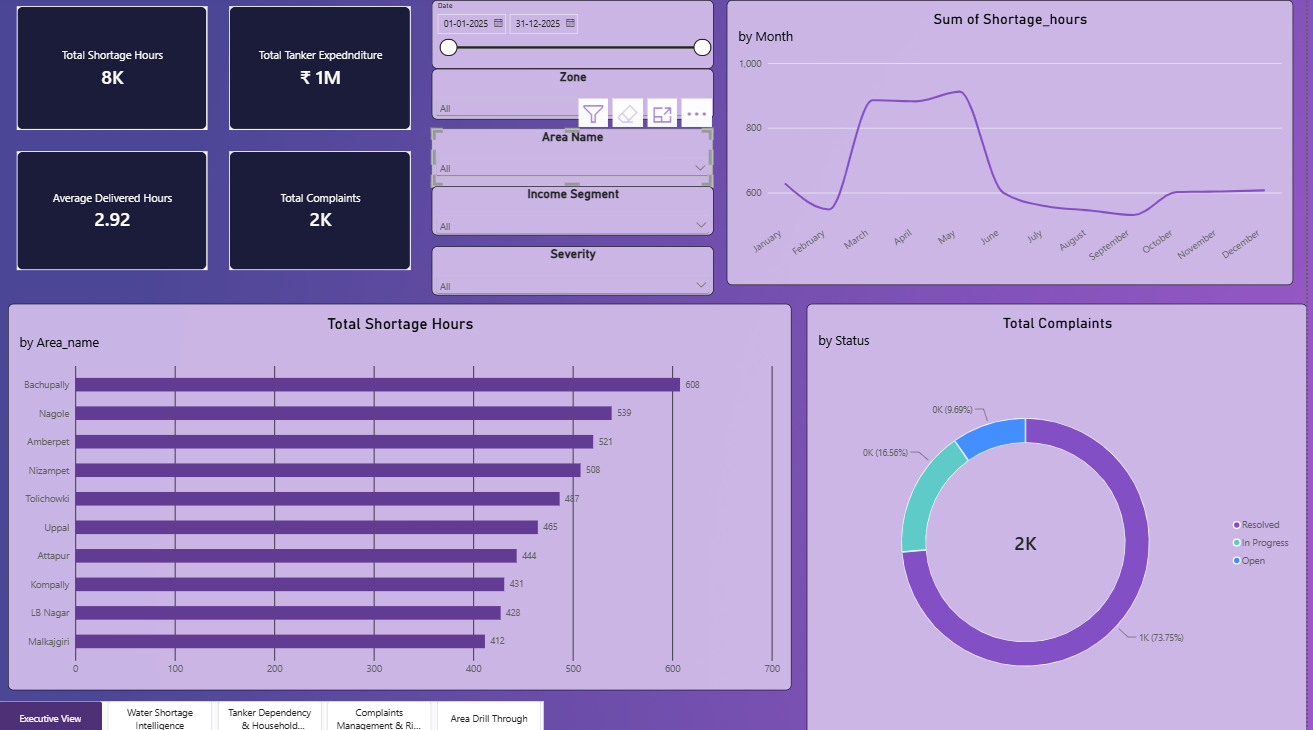

Layout of this report page (visuals, bound fields, positions):
{"tool":"powerbi","page":{"name":"Executive View","canvas":[1920,1080],"ordinal":0},"visuals":[{"type":"cardVisual","fields":{"Data":["aqua_watch supply_daily.Average Delivered Hours"]},"box":[27.5,222.6,279.9,174.4],"z":0},{"type":"cardVisual","fields":{"Data":["aqua_watch tanker_orders.Total Tanker Expednditure"]},"box":[339.6,9.2,266.2,181.3],"z":1000},{"type":"cardVisual","fields":{"Data":["aqua_watch complaints.Total Complaints"]},"box":[339.6,222.6,266.2,174.4],"z":2000},{"type":"cardVisual","fields":{"Data":["aqua_watch supply_daily.Total Shortage Hours"]},"box":[27.5,9.2,279.9,181.3],"z":3000},{"type":"barChart","fields":{"Category":["aqua_watch areas.Area_name"],"Y":["aqua_watch supply_daily.Total Shortage Hours"]},"box":[15.2,445.9,1150,567.4],"z":4000},{"type":"donutChart","fields":{"Category":["aqua_watch complaints.Status"],"Y":["aqua_watch complaints.Total Complaints"]},"box":[1186.2,445.1,734.2,635.6],"z":5000},{"type":"slicer","title":"Zone","fields":{"Values":["aqua_watch areas.Zone"]},"box":[635.7,100.6,413.7,74],"z":6000},{"type":"slicer","fields":{"Values":["Date.Date"]},"box":[635.7,0,413.7,100.6],"z":7000},{"type":"lineChart","fields":{"Category":["aqua_watch weather_daily.Date.Variation.Date Hierarchy.Month"],"Y":["Sum(aqua_watch supply_daily.Shortage_hours)"]},"box":[1070.1,0,831.2,418.5],"z":8000},{"type":"slicer","title":"Area Name","fields":{"Values":["aqua_watch areas.Area_name"]},"box":[636.3,188,412.2,85.5],"z":9000},{"type":"slicer","title":"Income Segment","fields":{"Values":["aqua_watch households.Income_segment"]},"box":[635.7,273.3,413.7,72.1],"z":10000},{"type":"slicer","title":"Severity","fields":{"Values":["aqua_watch complaints.Severity"]},"box":[635.7,360.5,413.7,72.1],"z":11000},{"type":"pageNavigator","box":[0,1028.5,800.8,51.2],"z":12000}]}

Visuals, with their boxes in screenshot pixels (x1, y1, x2, y2), scaled from the page's 1920x1080 canvas onto the 1313x730 screenshot:
cardVisual - aqua_watch supply_daily.Average Delivered Hours: {"left": 19, "top": 150, "right": 210, "bottom": 268}
cardVisual - aqua_watch tanker_orders.Total Tanker Expednditure: {"left": 232, "top": 6, "right": 414, "bottom": 129}
cardVisual - aqua_watch complaints.Total Complaints: {"left": 232, "top": 150, "right": 414, "bottom": 268}
cardVisual - aqua_watch supply_daily.Total Shortage Hours: {"left": 19, "top": 6, "right": 210, "bottom": 129}
barChart - aqua_watch areas.Area_name x aqua_watch supply_daily.Total Shortage Hours: {"left": 10, "top": 301, "right": 797, "bottom": 685}
donutChart - aqua_watch complaints.Status x aqua_watch complaints.Total Complaints: {"left": 811, "top": 301, "right": 1312, "bottom": 729}
"Zone" slicer: {"left": 435, "top": 68, "right": 718, "bottom": 118}
slicer - Date.Date: {"left": 435, "top": 0, "right": 718, "bottom": 68}
lineChart - aqua_watch weather_daily.Date.Variation.Date Hierarchy.Month x Sum(aqua_watch supply_daily.Shortage_hours): {"left": 732, "top": 0, "right": 1300, "bottom": 283}
"Area Name" slicer: {"left": 435, "top": 127, "right": 717, "bottom": 185}
"Income Segment" slicer: {"left": 435, "top": 185, "right": 718, "bottom": 233}
"Severity" slicer: {"left": 435, "top": 244, "right": 718, "bottom": 292}
pageNavigator: {"left": 0, "top": 695, "right": 548, "bottom": 729}
